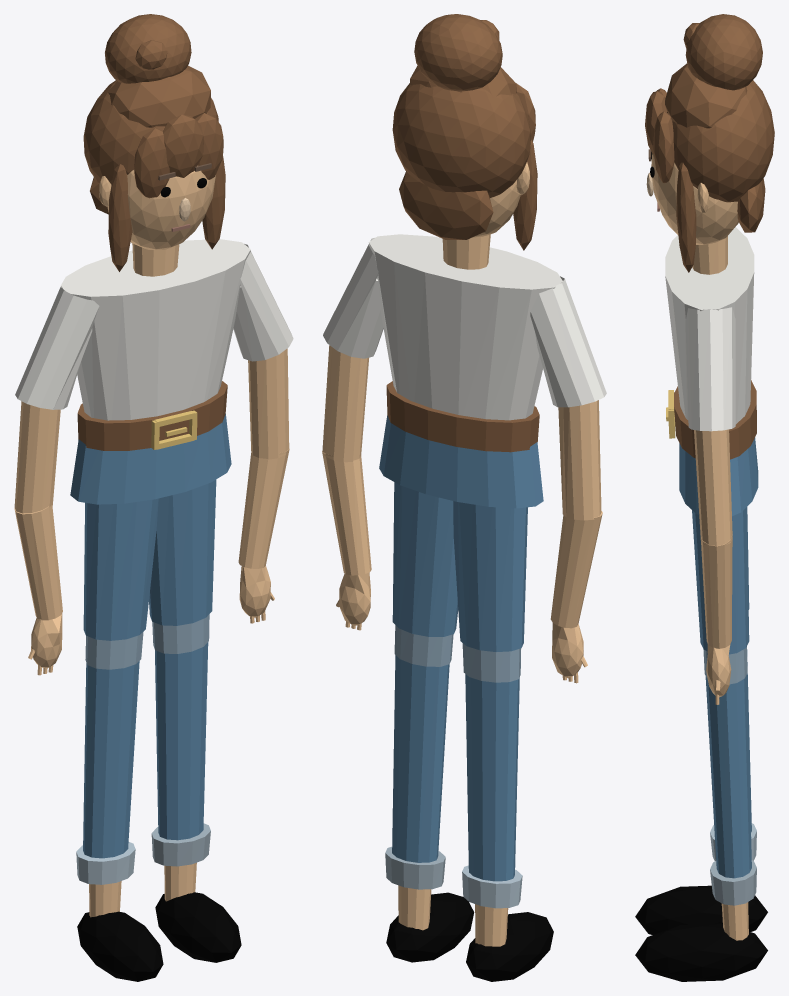
Rendered from MujerGenerica.glb.
The picture shows the model from 3 angles, left to right: view 1: azimuth 30°, elevation 25°; view 2: azimuth 150°, elevation 25°; view 3: azimuth 270°, elevation 25°; orthographic projection. The views are drawn at different scales.
Parts seen in each view (by area): view 1: shirt_torso, L_lower_leg, L_thigh, R_lower_leg, pelvis_jeans, R_thigh, L_shirt_sleeve, head_lowpoly, R_shoe_toe.001, R_shoe_toe, hair_bun, L_upper_arm_skin (+22 smaller); view 2: shirt_torso, hair_cap_back, L_lower_leg, L_thigh, R_lower_leg, pelvis_jeans, R_thigh, L_shirt_sleeve, hair_bun, brown_belt, L_upper_arm_skin, R_upper_arm_skin (+18 smaller); view 3: shirt_torso, hair_cap_back, R_lower_leg, R_shirt_sleeve, R_shoe_toe, hair_bun, R_upper_arm_skin, R_shoe_toe.001, R_thigh, hair_top_volume, R_forearm_skin, head_lowpoly (+12 smaller).
Boxes of the visible parts, left/top/right/bottom form: shirt_torso: left=60, top=239, right=250, bottom=420; L_lower_leg: left=83, top=661, right=139, bottom=858; L_thigh: left=83, top=498, right=158, bottom=640; R_lower_leg: left=155, top=642, right=208, bottom=840; pelvis_jeans: left=70, top=414, right=231, bottom=504; R_thigh: left=149, top=480, right=216, bottom=625; L_shirt_sleeve: left=15, top=286, right=99, bottom=409; head_lowpoly: left=107, top=165, right=215, bottom=249; R_shoe_toe.001: left=77, top=911, right=163, bottom=981; R_shoe_toe: left=155, top=892, right=241, bottom=962; hair_bun: left=105, top=14, right=191, bottom=83; L_upper_arm_skin: left=14, top=401, right=60, bottom=513; shirt_torso: left=369, top=234, right=562, bottom=420; hair_cap_back: left=392, top=83, right=531, bottom=197; L_lower_leg: left=465, top=674, right=519, bottom=881; L_thigh: left=453, top=501, right=527, bottom=651; R_lower_leg: left=392, top=655, right=449, bottom=862; pelvis_jeans: left=379, top=415, right=543, bottom=508; R_thigh: left=392, top=482, right=458, bottom=636; L_shirt_sleeve: left=530, top=276, right=606, bottom=407; hair_bun: left=414, top=14, right=502, bottom=91; brown_belt: left=386, top=381, right=539, bottom=452; L_upper_arm_skin: left=558, top=400, right=601, bottom=520; R_upper_arm_skin: left=322, top=345, right=368, bottom=462; shirt_torso: left=665, top=227, right=754, bottom=424; hair_cap_back: left=667, top=80, right=774, bottom=202; R_lower_leg: left=705, top=674, right=751, bottom=878; R_shirt_sleeve: left=685, top=307, right=735, bottom=431; R_shoe_toe: left=635, top=923, right=767, bottom=981; hair_bun: left=685, top=14, right=762, bottom=90; R_upper_arm_skin: left=694, top=429, right=732, bottom=546; R_shoe_toe.001: left=635, top=885, right=767, bottom=934; R_thigh: left=692, top=507, right=749, bottom=654; hair_top_volume: left=665, top=63, right=747, bottom=128; R_forearm_skin: left=700, top=535, right=732, bottom=648; head_lowpoly: left=651, top=153, right=738, bottom=244.
Size of the model in its own units: 1.89 by 6.17 by 0.8306.
